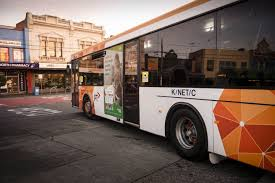bus: (70, 1, 275, 174)
